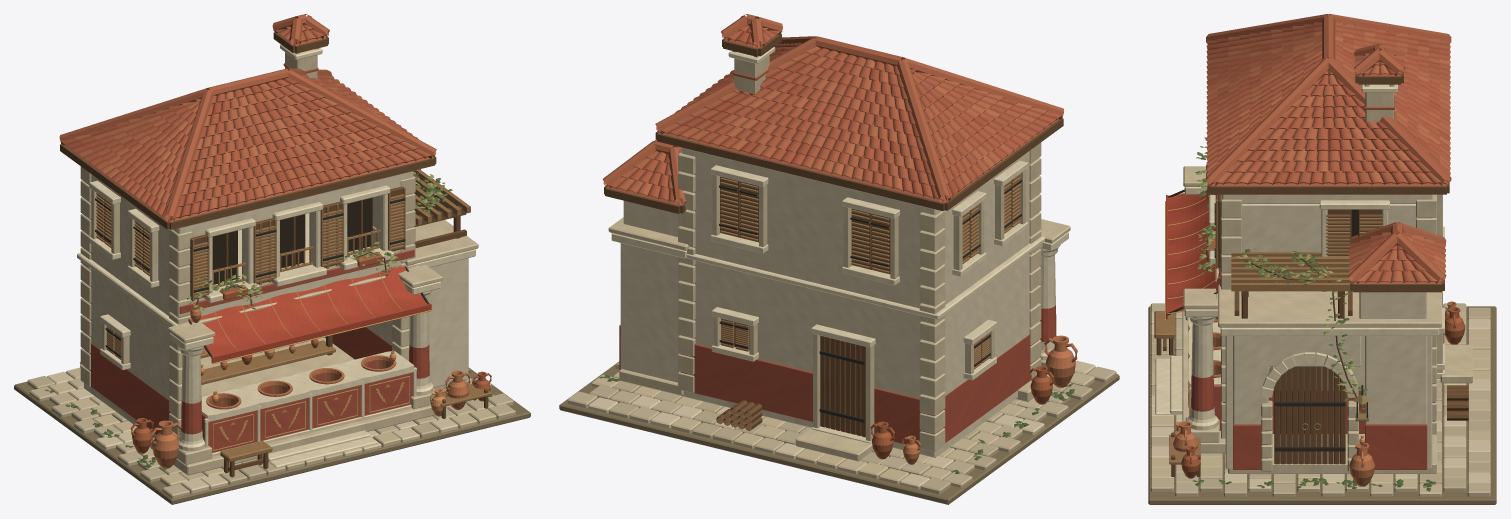
Rendered from taverna.glb.
The picture shows the model from 3 angles, left to right: view 1: azimuth 30°, elevation 25°; view 2: azimuth 150°, elevation 25°; view 3: azimuth 270°, elevation 25°; orthographic projection. The views are drawn at different scales.
Visible parts, largest first — view 1: Roof_Tile_0, Architecture_Limewash, Architecture_Travertine, Roof_Tile_1, Awning_Ochre_canvas, Counter_Pompeian_red, Windows_Oak_edge, Architecture_Pompeian_red, Counter_Limestone_trim, Roof_Tile_5, Windows_Limestone_trim, Paving_Earth (+31 smaller); view 2: Architecture_Limewash, Roof_Tile_0, Roof_Tile_1, Architecture_Travertine, Architecture_Pompeian_red, Annex_Limewash, Rear_elevation_Oak, Rear_elevation_Travertine, Rear_elevation_Limestone_trim, Paving_Earth, Roof_Tile_5, Rear_elevation_Oak_edge (+17 smaller); view 3: Roof_Tile_0, Roof_Tile_1, Annex_Limewash, Annex_Travertine, Architecture_Limewash, Paving_Earth, Annex_Oak, Roof_Tile_5, Awning_Ochre_canvas, Paving_Paving_3, Architecture_Travertine, Roof_Tile_2 (+35 smaller).
Boxes of the visible parts, x1,y1,x2,y2 form: Roof_Tile_0: [62, 26, 434, 220]; Architecture_Limewash: [84, 171, 413, 438]; Architecture_Travertine: [80, 166, 434, 475]; Roof_Tile_1: [59, 14, 436, 221]; Awning_Ochre_canvas: [190, 266, 431, 363]; Counter_Pompeian_red: [201, 360, 414, 452]; Windows_Oak_edge: [192, 187, 405, 301]; Architecture_Pompeian_red: [84, 249, 414, 434]; Counter_Limestone_trim: [201, 351, 416, 456]; Roof_Tile_5: [77, 25, 435, 211]; Windows_Limestone_trim: [204, 185, 394, 303]; Paving_Earth: [14, 367, 530, 504]; Architecture_Limewash: [681, 148, 1038, 457]; Roof_Tile_0: [605, 25, 1061, 204]; Roof_Tile_1: [603, 14, 1063, 204]; Architecture_Travertine: [678, 142, 1051, 451]; Architecture_Pompeian_red: [680, 334, 1038, 447]; Annex_Limewash: [620, 200, 679, 382]; Rear_elevation_Oak: [716, 176, 1019, 437]; Rear_elevation_Travertine: [712, 170, 1025, 461]; Rear_elevation_Limestone_trim: [710, 160, 1027, 443]; Paving_Earth: [559, 361, 1119, 504]; Roof_Tile_5: [616, 47, 1047, 190]; Rear_elevation_Oak_edge: [720, 173, 1020, 369]; Roof_Tile_0: [1206, 22, 1450, 282]; Roof_Tile_1: [1206, 14, 1451, 284]; Annex_Limewash: [1225, 292, 1432, 468]; Annex_Travertine: [1218, 284, 1441, 473]; Architecture_Limewash: [1222, 194, 1432, 390]; Paving_Earth: [1148, 306, 1496, 504]; Annex_Oak: [1274, 366, 1345, 464]; Roof_Tile_5: [1206, 26, 1450, 282]; Awning_Ochre_canvas: [1166, 190, 1219, 319]; Paving_Paving_3: [1150, 303, 1490, 496]; Architecture_Travertine: [1182, 194, 1436, 453]; Roof_Tile_2: [1206, 26, 1450, 283].
Bounding box in the file's own units: 9.2 × 8.7 × 7.
30 materials, 9 textured.
